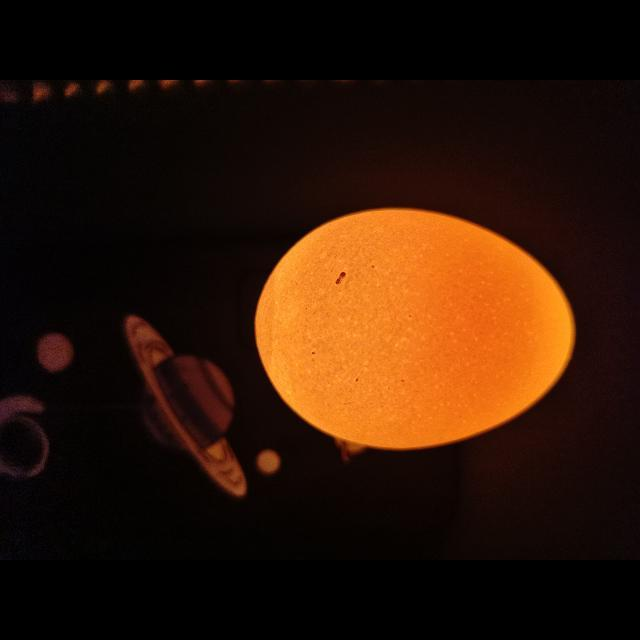AA - Premium: (255, 209, 575, 449), (415, 301, 418, 304)
